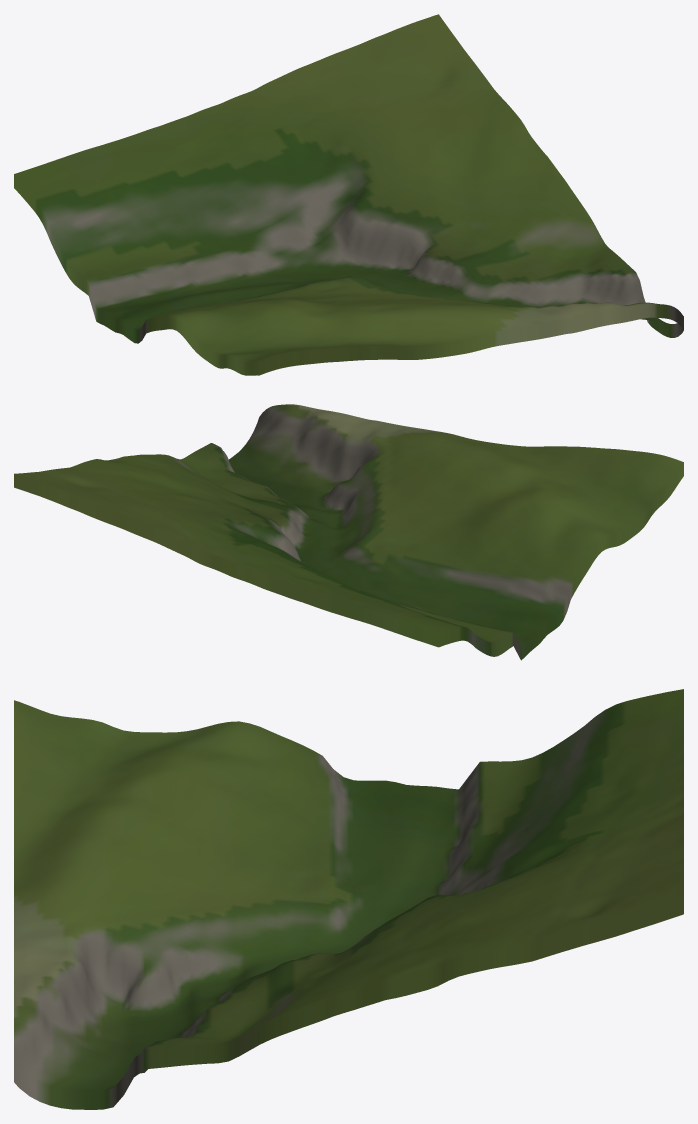
File: terrain_9_-24.glb
The picture shows the model from 3 angles, top to bottom: view 1: azimuth 30°, elevation 25°; view 2: azimuth 150°, elevation 25°; view 3: azimuth 270°, elevation 25°; orthographic projection. The views are drawn at different scales.
Parts seen in each view (by area): view 1: terrain_9_-24; view 2: terrain_9_-24; view 3: terrain_9_-24.
Part boxes in pixels (left/top/right/bottom): terrain_9_-24: left=14, top=14, right=683, bottom=375; terrain_9_-24: left=14, top=404, right=683, bottom=660; terrain_9_-24: left=14, top=689, right=683, bottom=1109.
Size of the model in its own units: 256 by 90.48 by 256.
